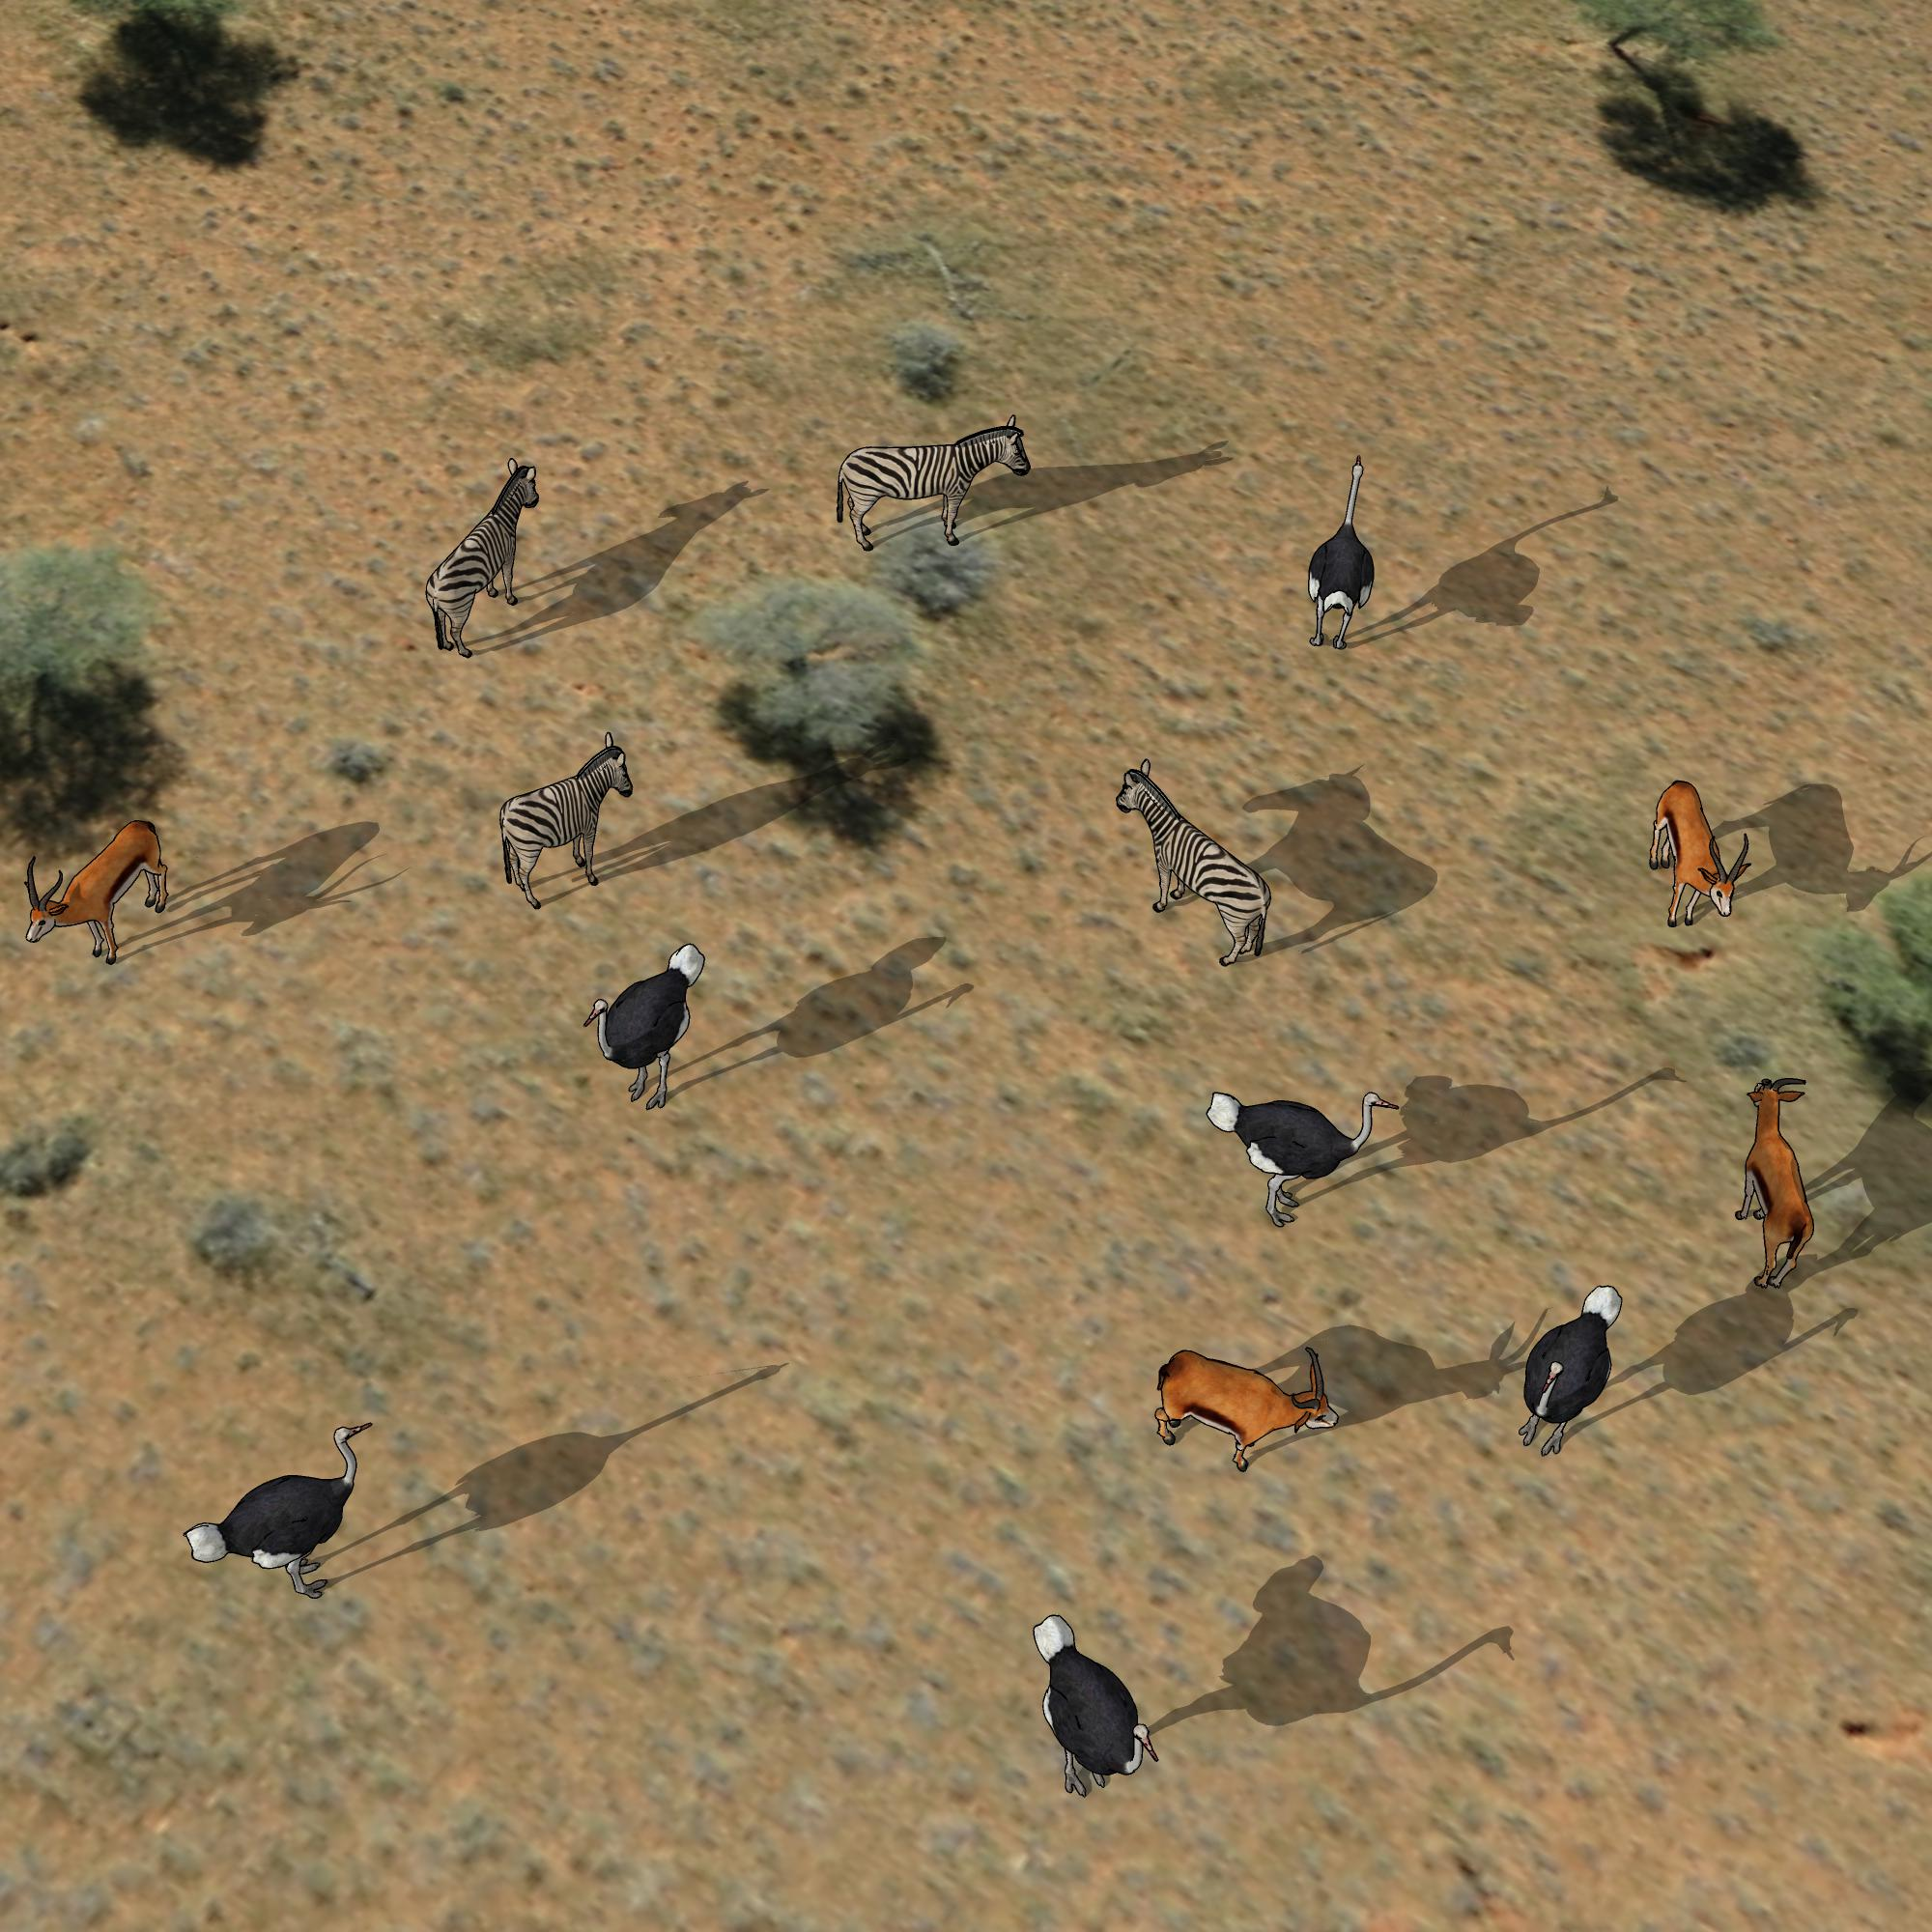ostrich: (186, 1419, 405, 1605), (1201, 1076, 1404, 1224), (1030, 1612, 1170, 1804), (581, 944, 727, 1120), (1519, 1277, 1623, 1455), (1302, 448, 1383, 654)
springbok: (1150, 1322, 1341, 1483), (18, 807, 176, 970), (1724, 1068, 1824, 1293), (1640, 766, 1757, 939)
zebra: (1114, 756, 1285, 970), (827, 412, 1037, 553), (489, 730, 649, 901), (420, 464, 547, 660)
